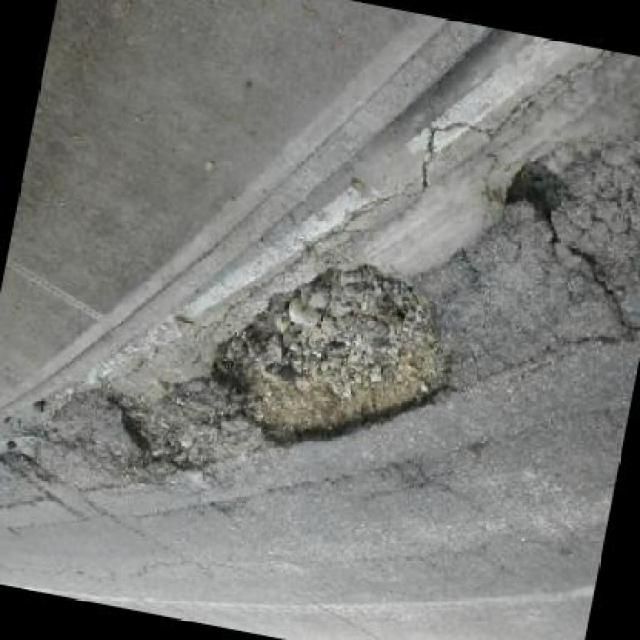pothole1: (188, 232, 472, 488), (88, 387, 224, 485), (495, 155, 573, 230), (0, 426, 60, 488)
